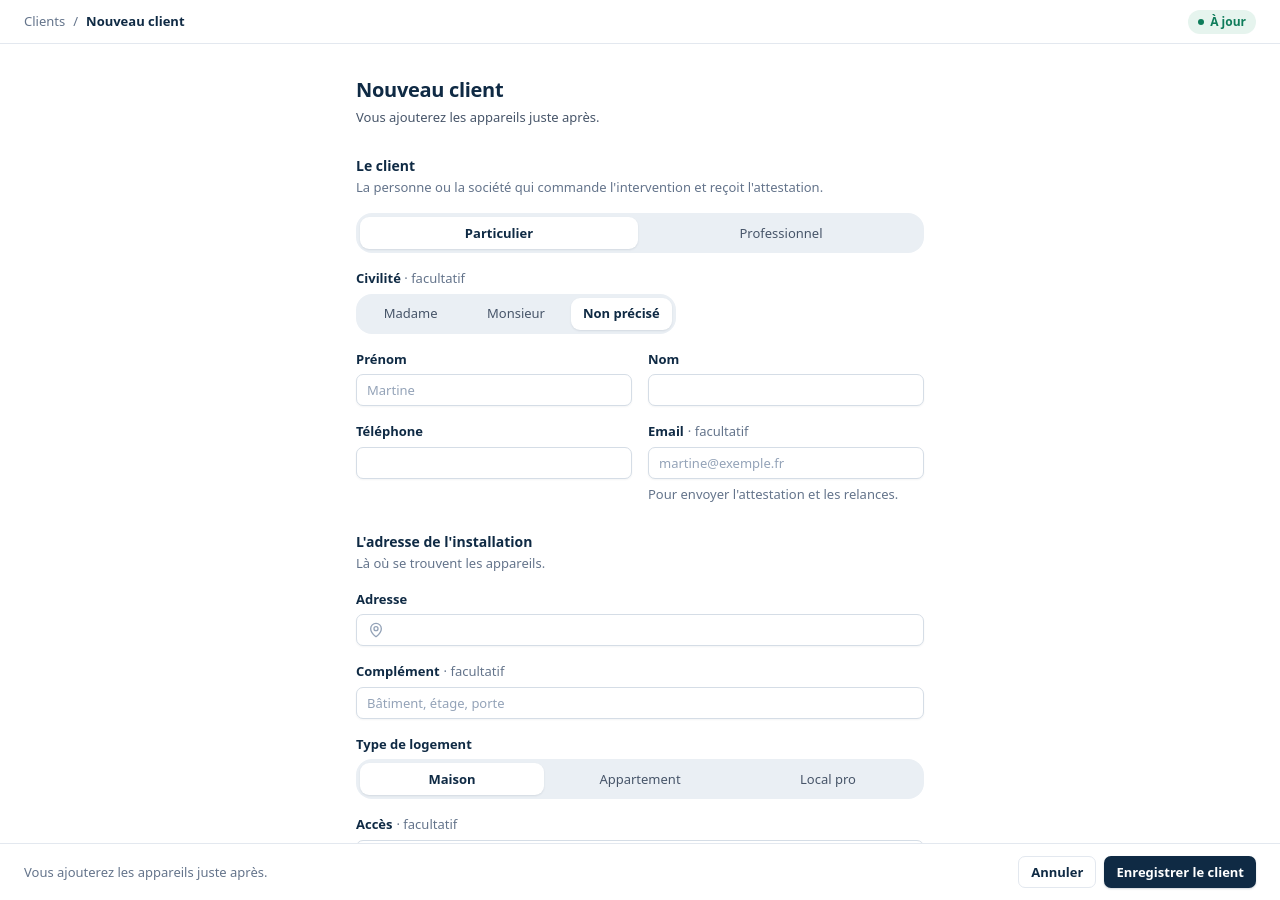
it: NewCustomerScreen › requires the company name for a professional customer
Click the radio button labelled "Professionnel".
click(781, 233)  # box [740,224,823,242]
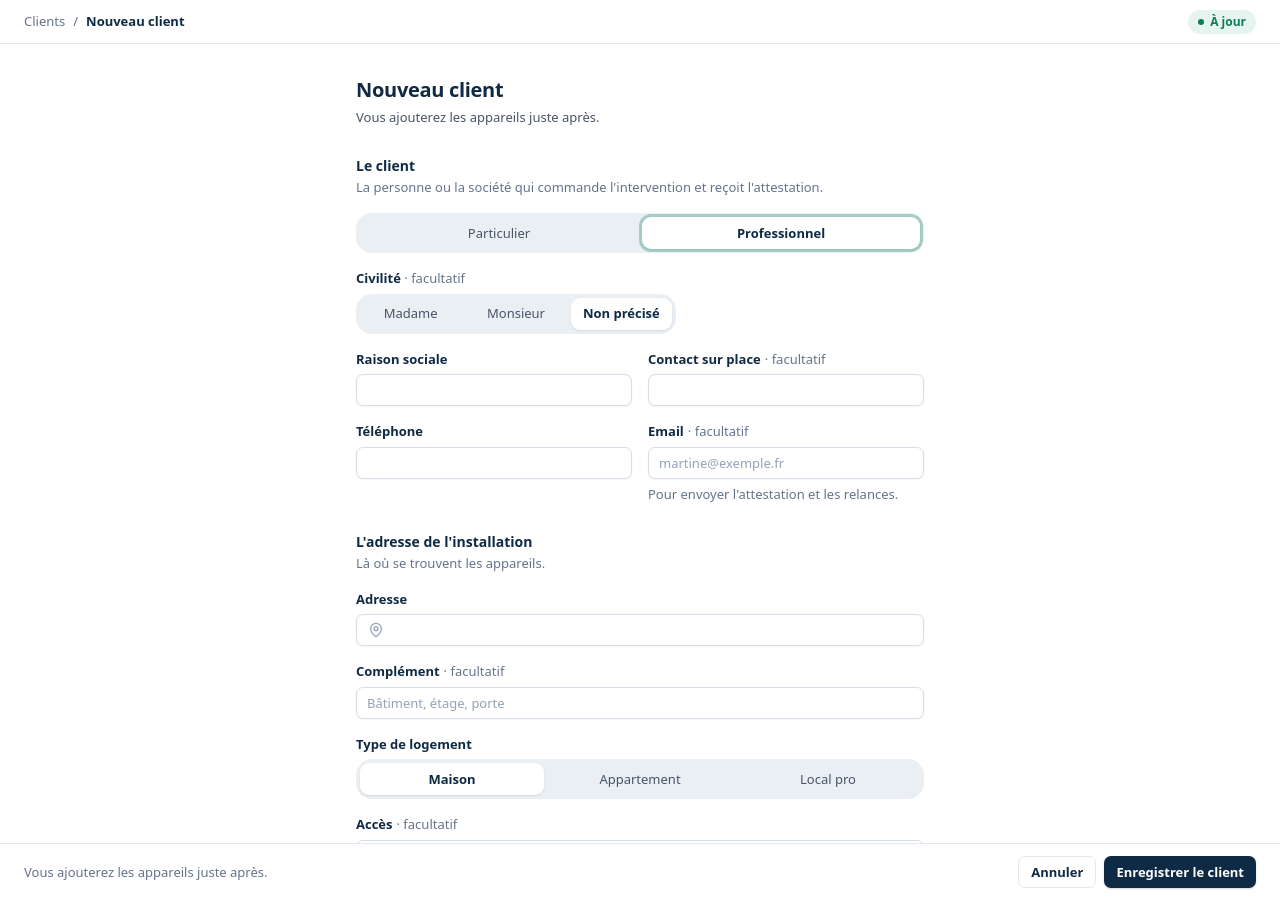
Expected: the field labelled "Raison sociale" is shown, [356,374,632,406]
Expected: the label labelled "Prénom" is gone
Click the button "Enregistrer le client".
click(1180, 872)  # box [1104,856,1256,888]
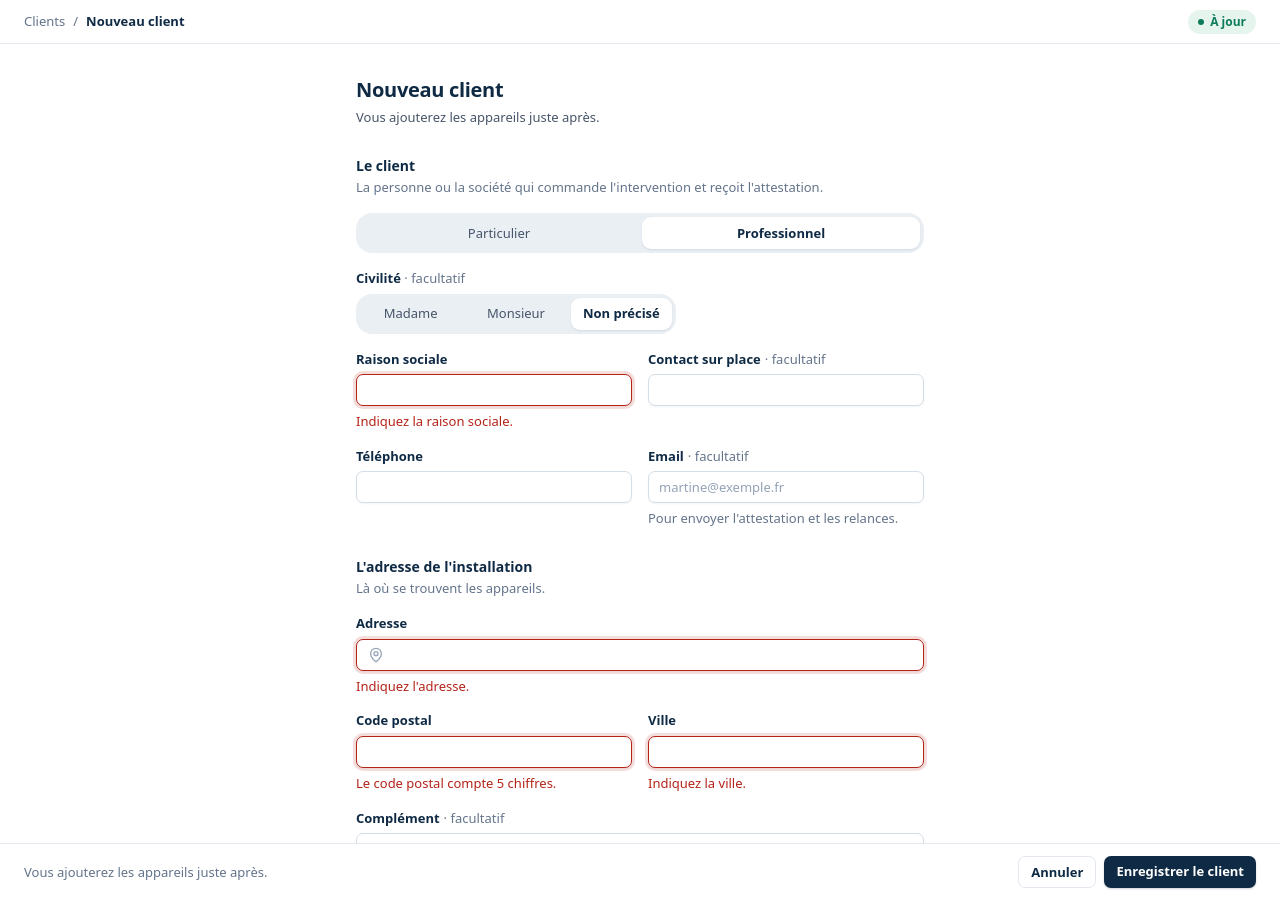
Expected: the text "Indiquez la raison sociale." is shown, [356,412,513,430]
